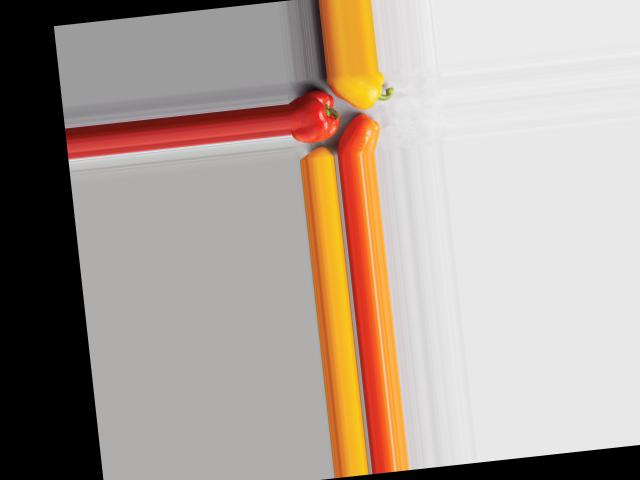bell_pepper: (287, 85, 342, 145)
